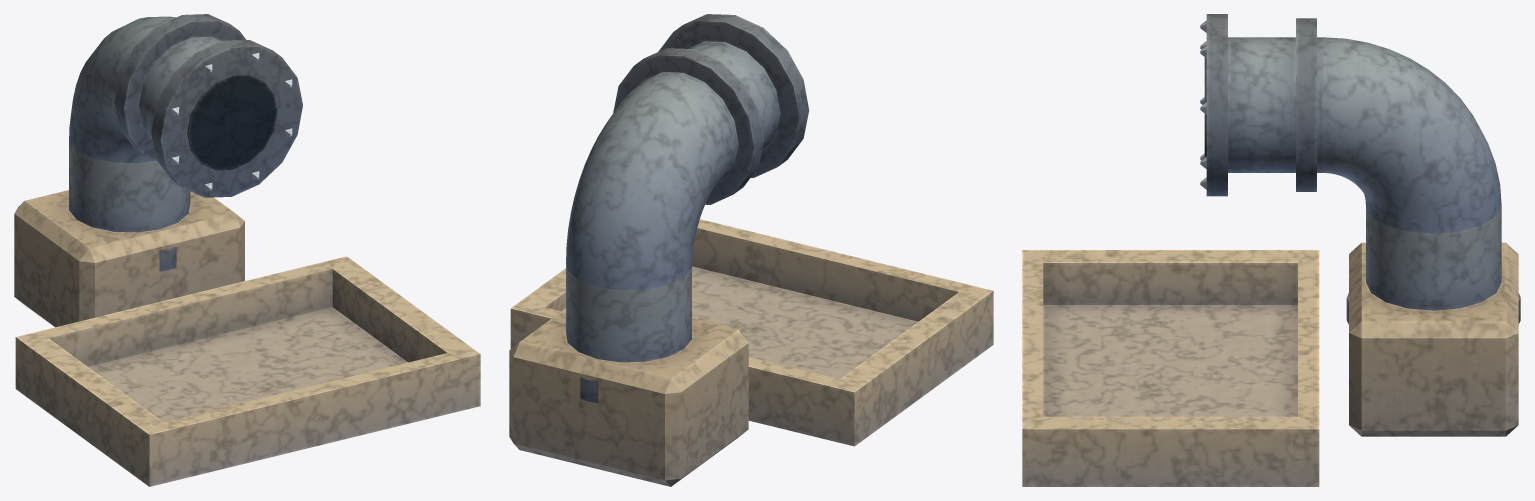
The model's file is Source_Pipe.glb.
The picture shows the model from 3 angles, left to right: view 1: azimuth 30°, elevation 25°; view 2: azimuth 150°, elevation 25°; view 3: azimuth 270°, elevation 25°; orthographic projection. The views are drawn at different scales.
Visible parts, largest first — view 1: Source_Pipe; view 2: Source_Pipe; view 3: Source_Pipe.
Part boxes in pixels (x1,y1,x2,y2): Source_Pipe: [14, 14, 480, 486]; Source_Pipe: [509, 14, 993, 486]; Source_Pipe: [1022, 14, 1520, 486].
Bounding box in the file's own units: 10 × 9.75 × 11.75.
Materials: 1 (1 with a texture image).
